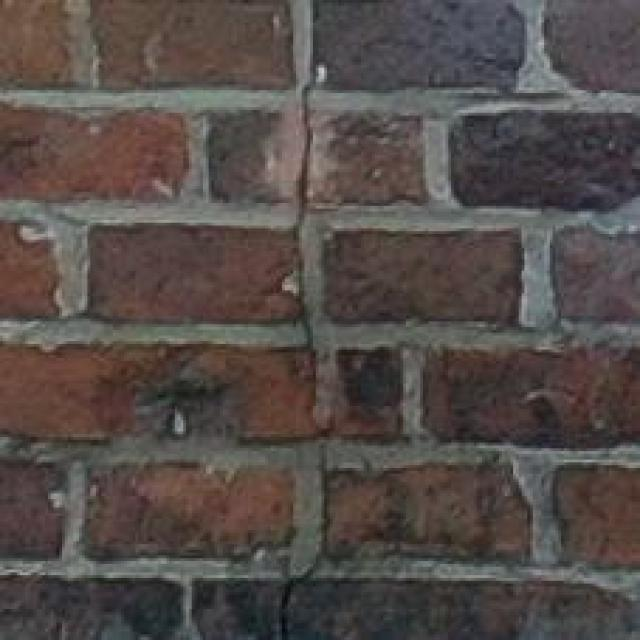Crack: (248, 17, 462, 500)
